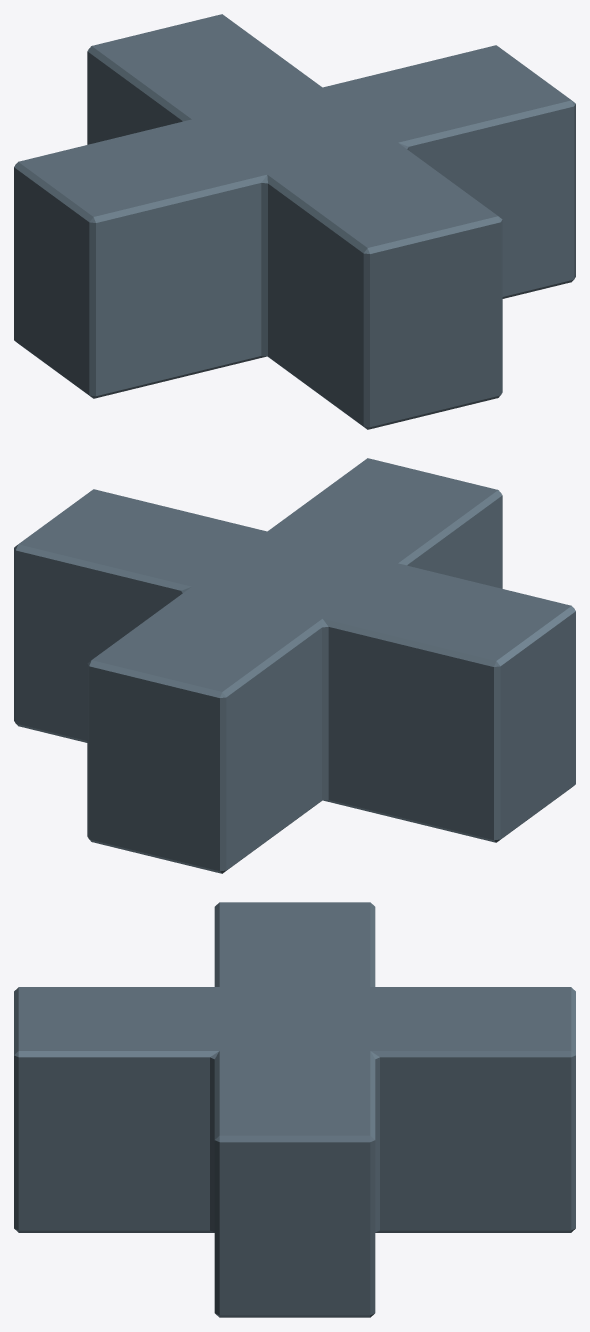
Rendered from P32_Cross_Prism.fbx.
3 views of the same model, one above another, from view 1: azimuth 30°, elevation 25°; view 2: azimuth 150°, elevation 25°; view 3: azimuth 270°, elevation 25° (orthographic).
Parts seen in each view (by area): view 1: P32_Cross_Prism; view 2: P32_Cross_Prism; view 3: P32_Cross_Prism.
Boxes of the visible parts, <box> form: P32_Cross_Prism: <box>14,14,575,429</box>; P32_Cross_Prism: <box>14,458,575,873</box>; P32_Cross_Prism: <box>14,902,575,1317</box>.
Bounding box in the file's own units: 1.4 × 0.5 × 1.4.
Materials: 1 (1 with a texture image).
